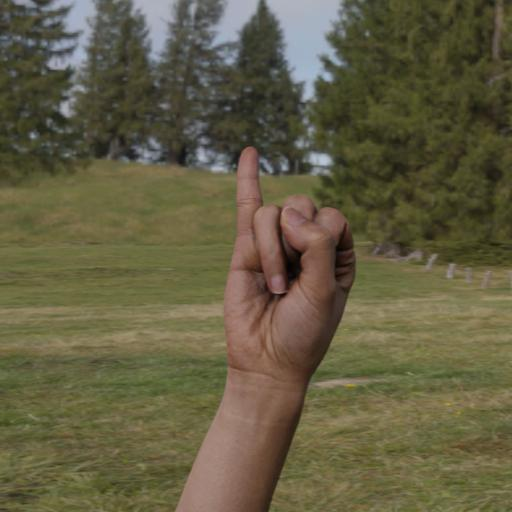I: (167, 119, 380, 430)
